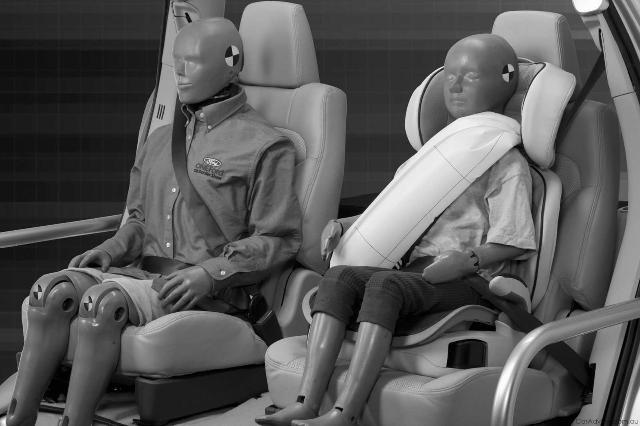SafeDriving: (168, 0, 203, 30)
Seatbelt: (139, 89, 259, 313)
